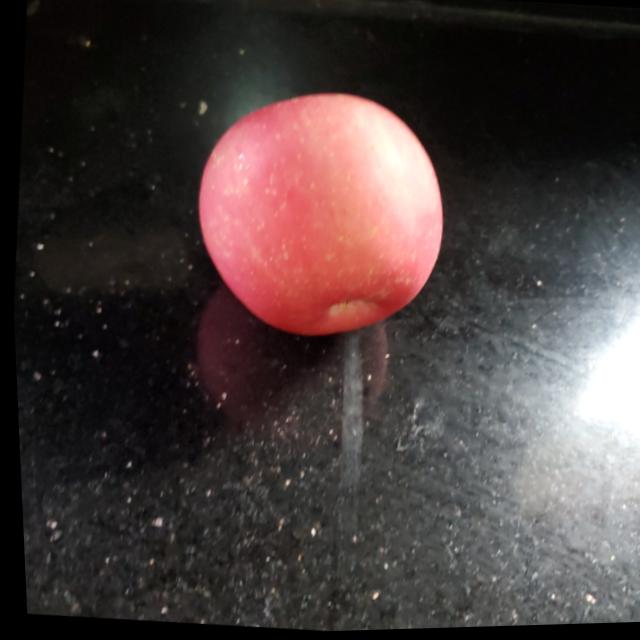apple: (179, 84, 453, 355)
